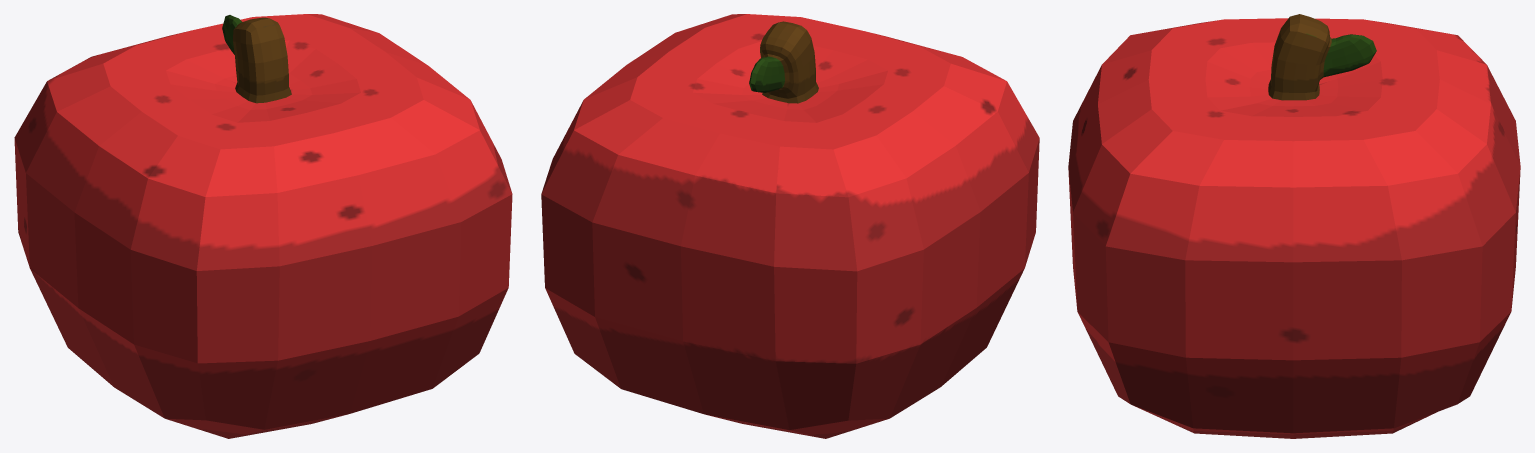
Rendered from manzana.fbx.
The picture shows the model from 3 angles, left to right: view 1: azimuth 30°, elevation 25°; view 2: azimuth 150°, elevation 25°; view 3: azimuth 270°, elevation 25°; orthographic projection. The views are drawn at different scales.
Parts seen in each view (by area): view 1: Cube.001; view 2: Cube.001; view 3: Cube.001.
Boxes of the visible parts, bbox=[...] form: Cube.001: bbox=[14, 14, 512, 438]; Cube.001: bbox=[541, 14, 1039, 438]; Cube.001: bbox=[1068, 14, 1520, 438].
Bounding box in the file's own units: 9.8 × 9.2 × 9.8.
Materials: 1 (1 with a texture image).
